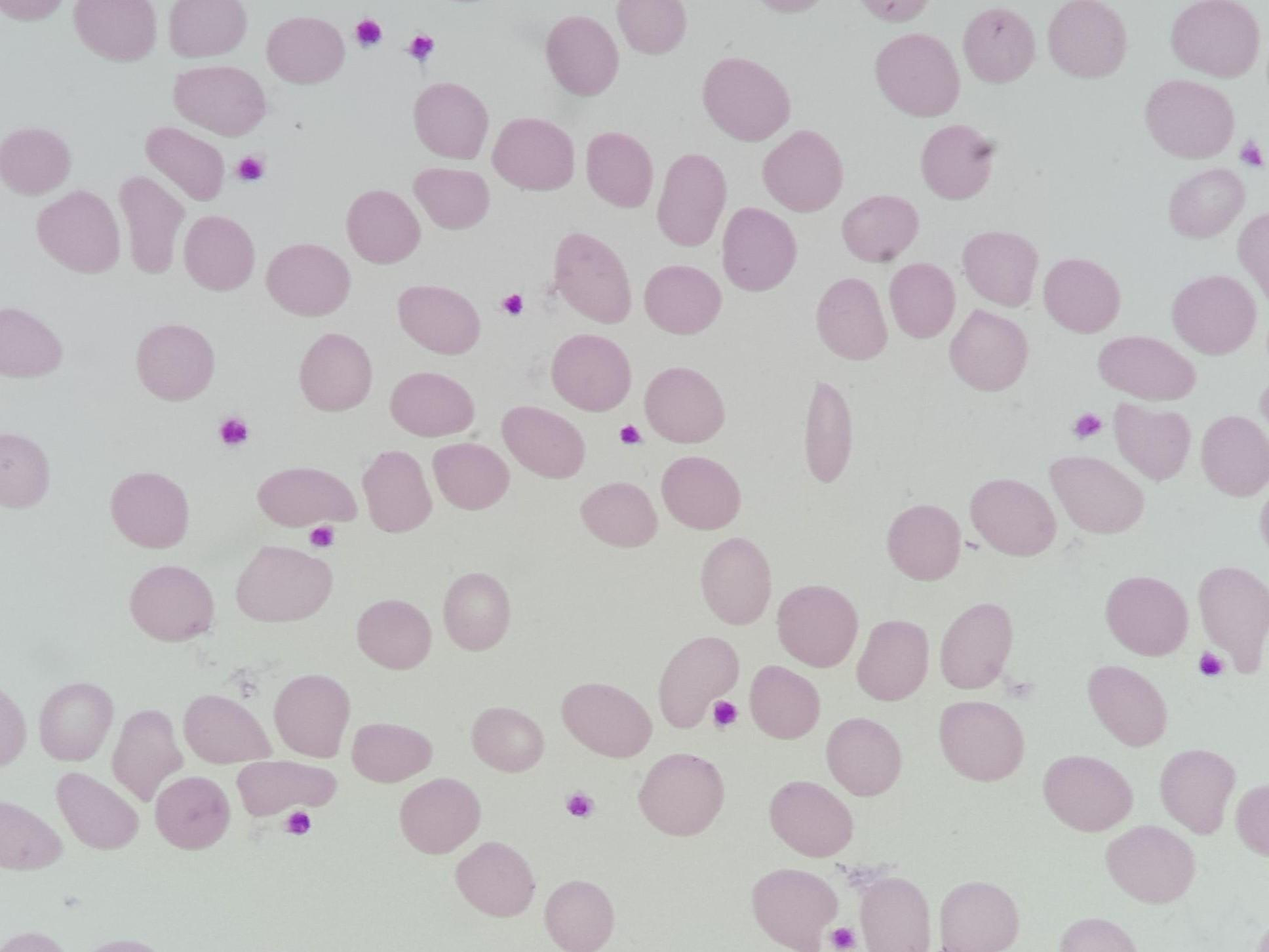Uninfected: (552, 785, 662, 857), (158, 781, 267, 851), (1, 563, 111, 632), (368, 899, 510, 952), (1112, 655, 1227, 720), (1080, 528, 1193, 594), (439, 178, 544, 248), (294, 495, 416, 555), (1055, 861, 1163, 928), (225, 704, 336, 769), (59, 830, 166, 897), (153, 479, 265, 543), (256, 420, 361, 488), (903, 28, 1016, 91), (525, 728, 634, 793), (836, 416, 956, 475), (200, 84, 324, 141), (127, 576, 235, 641), (392, 828, 503, 891), (377, 583, 489, 645), (1162, 879, 1268, 944), (903, 88, 1033, 141), (269, 815, 380, 877), (790, 880, 901, 942), (154, 869, 269, 928), (257, 204, 369, 264), (1084, 130, 1181, 199), (347, 705, 463, 762), (983, 572, 1094, 631), (135, 42, 240, 104), (555, 268, 668, 325), (628, 375, 727, 440), (248, 137, 347, 202), (942, 493, 1060, 547), (1012, 368, 1113, 431), (413, 97, 517, 158), (333, 641, 444, 698), (878, 541, 989, 598), (130, 298, 232, 360), (732, 824, 822, 894), (1164, 785, 1269, 845), (43, 341, 146, 402), (745, 713, 853, 771), (718, 412, 822, 472), (822, 782, 926, 842), (563, 193, 647, 267), (625, 834, 732, 892), (844, 200, 944, 262), (537, 84, 641, 143), (135, 115, 237, 175), (787, 613, 898, 668), (434, 526, 549, 579), (559, 496, 662, 555), (999, 108, 1100, 168), (205, 619, 313, 675), (676, 483, 778, 542), (1139, 409, 1248, 464), (856, 722, 960, 779), (177, 178, 258, 251), (253, 30, 359, 85), (1000, 691, 1104, 747), (732, 103, 836, 159), (1054, 310, 1156, 367), (1155, 722, 1260, 777), (914, 259, 1015, 316), (794, 298, 888, 359), (281, 562, 383, 618), (495, 665, 597, 721), (811, 666, 918, 719), (822, 483, 918, 541), (878, 137, 981, 191), (0, 704, 94, 763), (586, 324, 681, 382), (949, 878, 1044, 936), (0, 643, 100, 698), (695, 293, 779, 358), (719, 225, 822, 278), (375, 268, 469, 325), (989, 440, 1092, 492), (400, 333, 505, 384), (1155, 199, 1245, 258), (917, 631, 1010, 688), (607, 902, 713, 952), (223, 263, 307, 326), (1187, 55, 1269, 119), (236, 353, 329, 409), (0, 408, 96, 462), (537, 435, 626, 493), (960, 309, 1046, 367), (1189, 125, 1269, 186), (1005, 1, 1097, 53), (623, 604, 757, 639), (1194, 462, 1269, 516), (766, 1, 856, 45)
